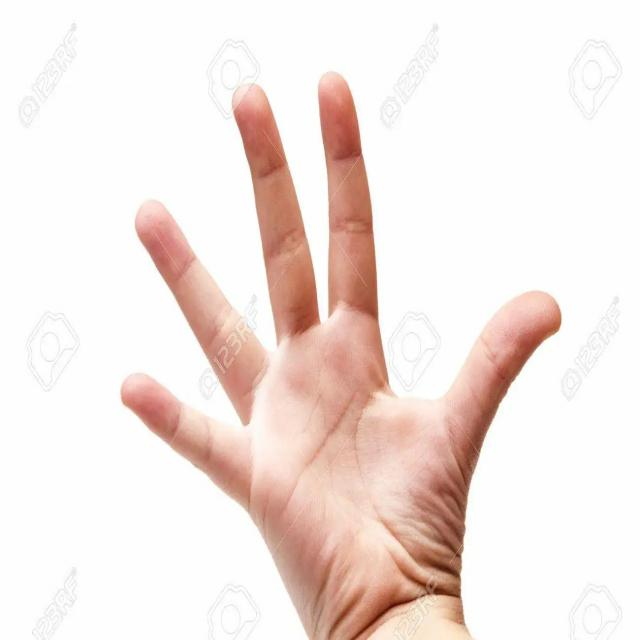bare_hand: (119, 72, 562, 636)
